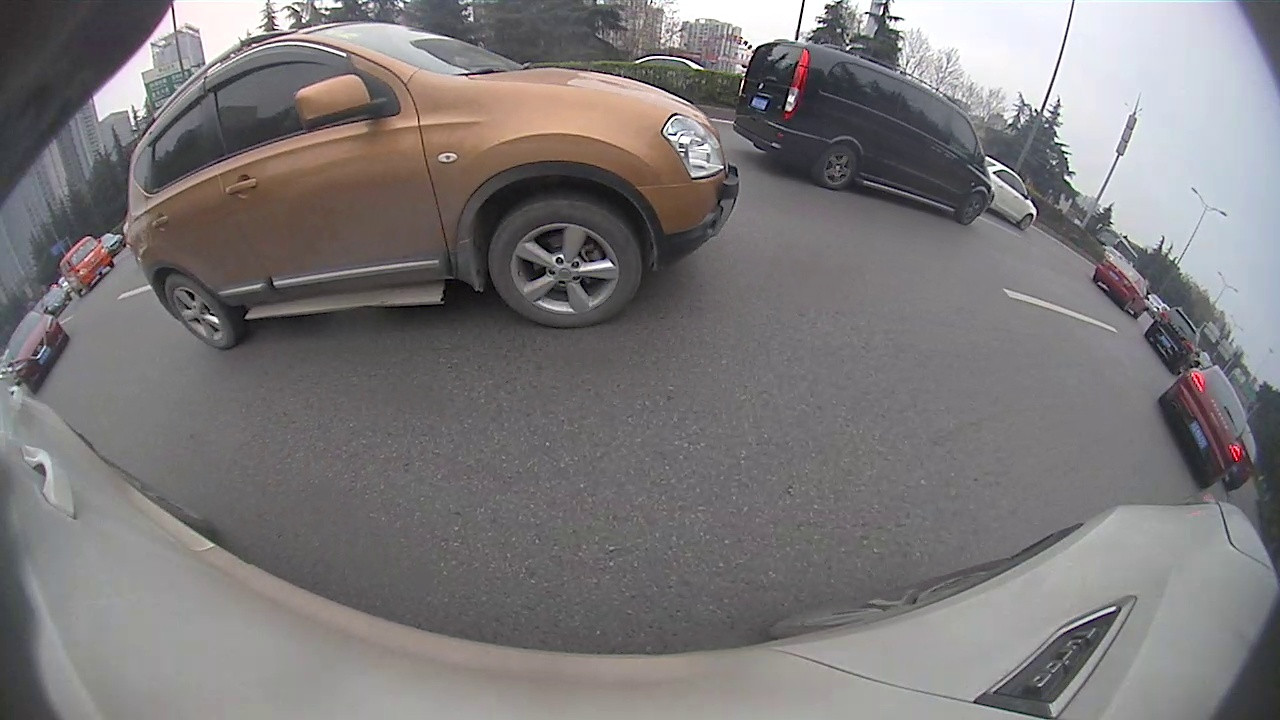car: (123, 21, 740, 351), (732, 37, 995, 226), (1156, 362, 1251, 489), (1, 311, 72, 397), (983, 156, 1039, 232), (1144, 305, 1201, 377), (57, 234, 116, 297), (1092, 254, 1148, 320)
front: (486, 197, 645, 330), (958, 193, 984, 226), (1017, 213, 1035, 231)
rear: (163, 272, 240, 350), (815, 143, 859, 190)
